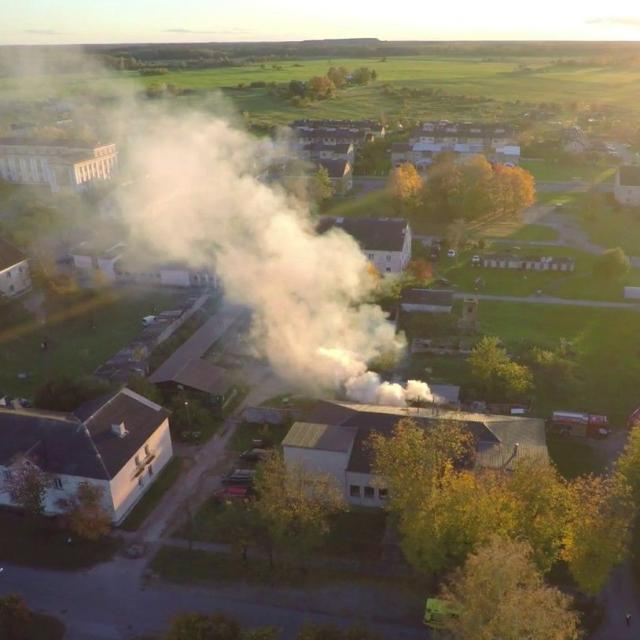Smoke: (65, 61, 422, 407)
